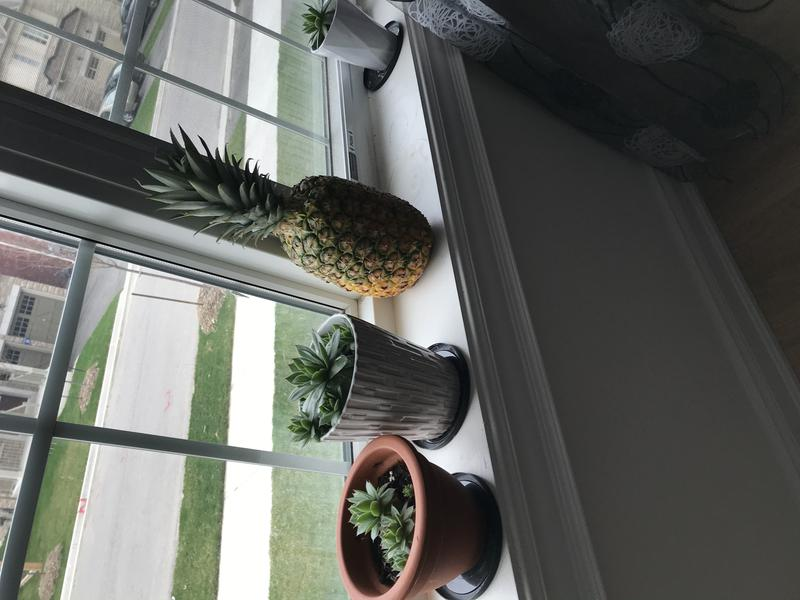pineapple: (130, 127, 439, 303)
